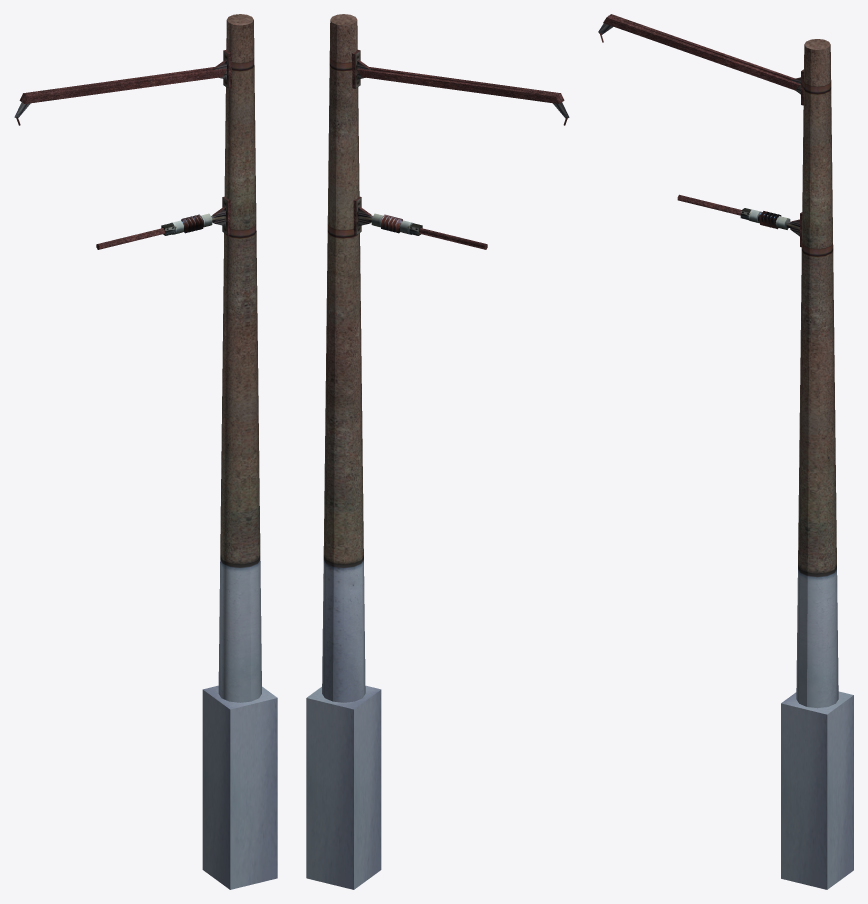
File: opk1r4.gltf
3 renders of one model, left to right at view 1: azimuth 30°, elevation 25°; view 2: azimuth 150°, elevation 25°; view 3: azimuth 330°, elevation 25°, orthographic. The views are drawn at different scales.
Size of the model in its own units: 3.51 by 11.49 by 0.67.
Materials: 1 (1 with a texture image).
